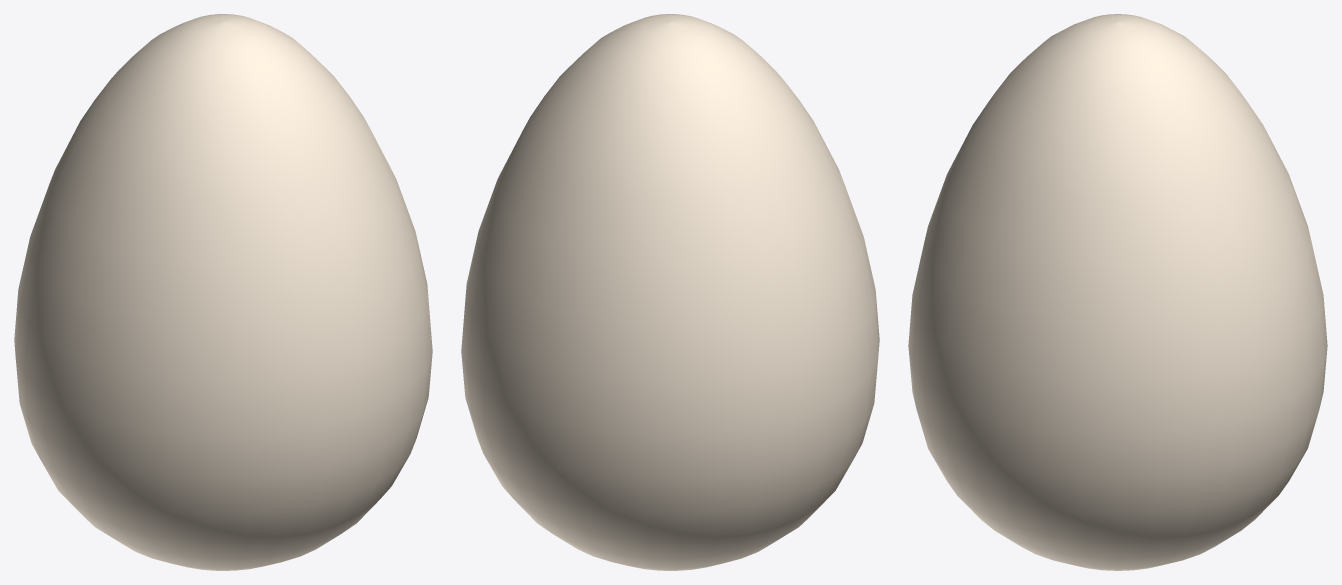
File: egg.glb
The picture shows the model from 3 angles, left to right: view 1: azimuth 30°, elevation 25°; view 2: azimuth 150°, elevation 25°; view 3: azimuth 270°, elevation 25°; orthographic projection.
Parts seen in each view (by area): view 1: Sphere.489; view 2: Sphere.489; view 3: Sphere.489.
Boxes of the visible parts, box(x1,y1,x2,y2) form: Sphere.489: box(14, 14, 432, 570); Sphere.489: box(461, 14, 879, 570); Sphere.489: box(908, 14, 1327, 570).
Size of the model in its own units: 1.6 by 2.23 by 1.6.
1 material, 1 textured.
